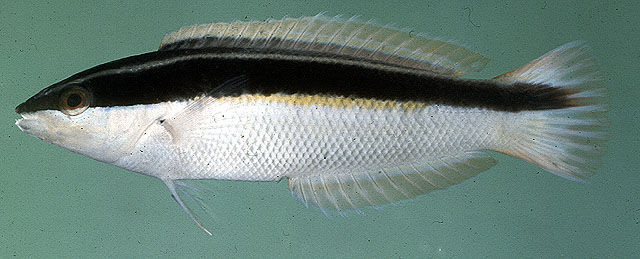fish: (15, 14, 610, 237)
